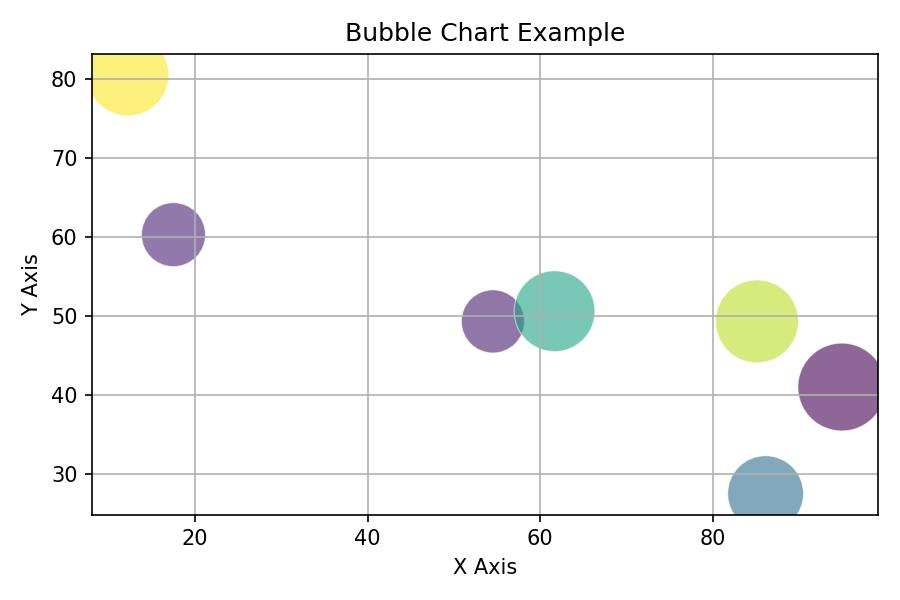axis: (79, 503, 883, 553), (48, 43, 103, 529)
circle: (796, 340, 879, 431), (715, 278, 801, 362), (515, 268, 596, 350), (92, 55, 169, 114), (729, 453, 803, 512), (460, 288, 526, 354), (141, 203, 205, 266)
